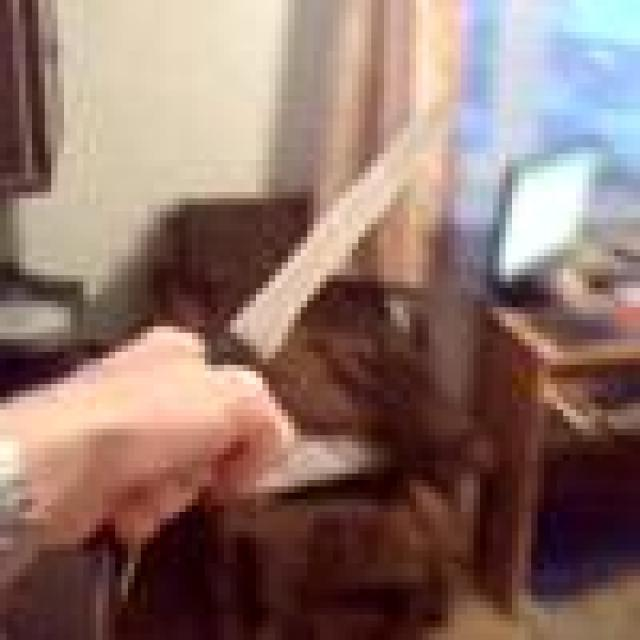faca: (109, 96, 486, 525)
